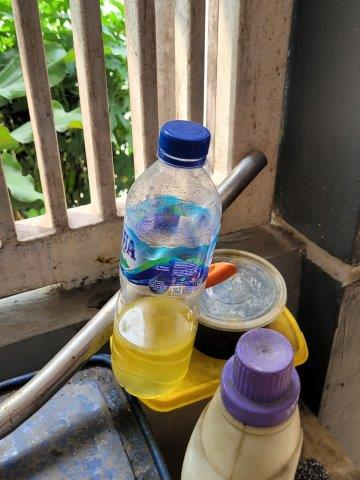botolplastik: (110, 123, 221, 394)
